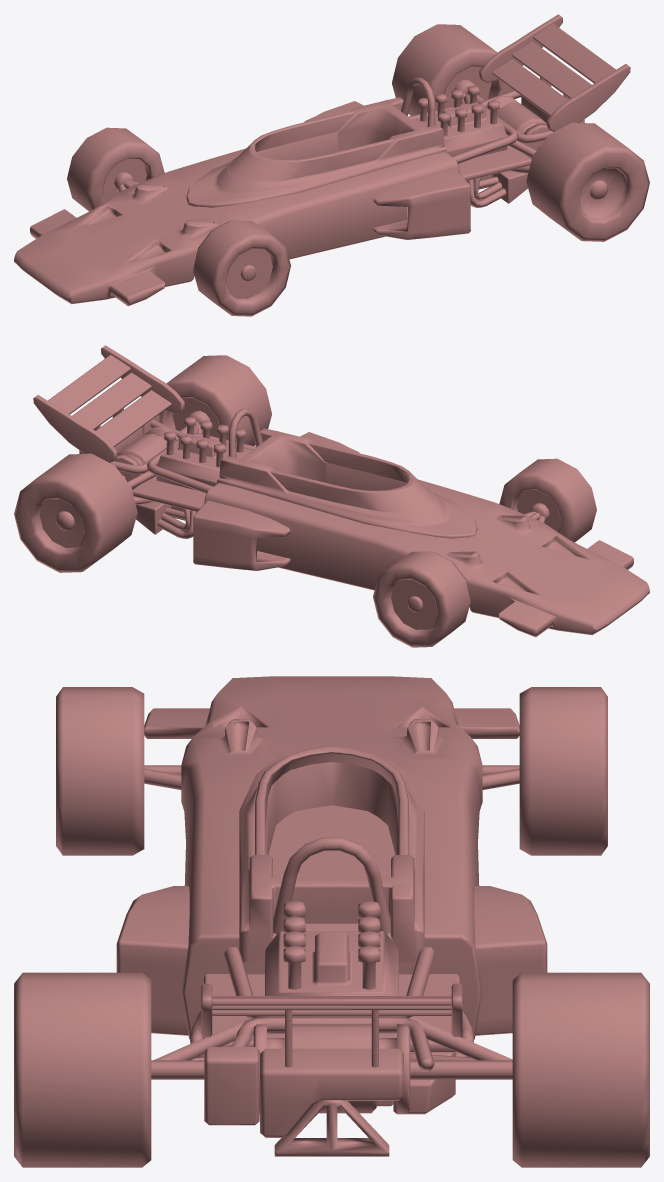
Rendered from lotus_72_cosworth.fbx.
The picture shows the model from 3 angles, top to bottom: view 1: azimuth 30°, elevation 25°; view 2: azimuth 150°, elevation 25°; view 3: azimuth 270°, elevation 25°; orthographic projection. The views are drawn at different scales.
Visible parts, largest first — view 1: lotus_72_body, lotus_72_rear_wheels, lotus_72_front_wheels; view 2: lotus_72_body, lotus_72_rear_wheels, lotus_72_front_wheels; view 3: lotus_72_body, lotus_72_rear_wheels, lotus_72_front_wheels.
Part boxes in pixels (box(x1,y1,x2,y2)): lotus_72_body: box(14, 14, 630, 306); lotus_72_rear_wheels: box(392, 24, 649, 241); lotus_72_front_wheels: box(67, 127, 290, 316); lotus_72_body: box(33, 345, 649, 637); lotus_72_rear_wheels: box(14, 355, 271, 572); lotus_72_front_wheels: box(373, 458, 596, 647); lotus_72_body: box(116, 676, 547, 1156); lotus_72_rear_wheels: box(14, 972, 649, 1167); lotus_72_front_wheels: box(56, 687, 607, 855).
Bounding box in the file's own units: 3.57 × 0.7643 × 1.9.
